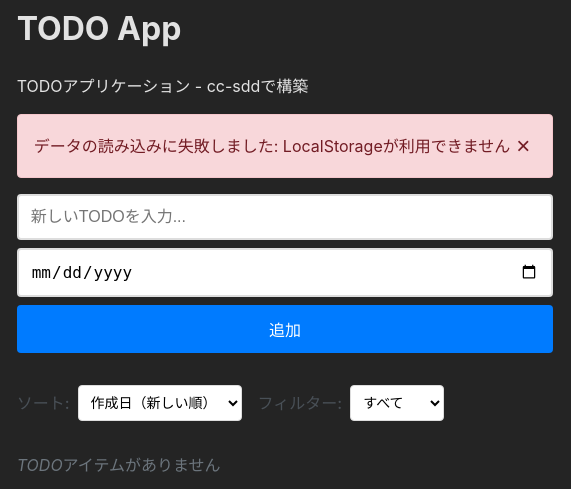
Test case: App - E2E Integration Tests › エラーメッセージを閉じることができる
This screenshot has width=571, height=489.
Type "エラーテスト" into the field with placeholder "新しいTODOを入力...". click: (285, 217)
box: [17,194,553,240]
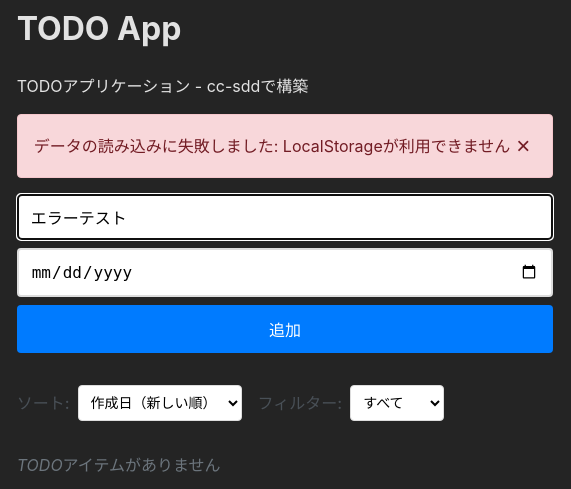
Click the button "追加". click: (285, 329)
box: [17,305,553,353]
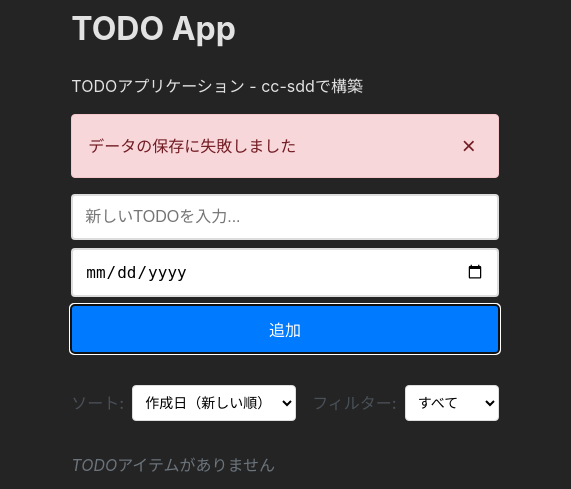
Check: the text "データの保存に失敗しました" is shown, box [88,134,296,158]
Note: 閉じるボタンをクリック
Click the button "×". click: (469, 146)
box: [456,131,482,161]
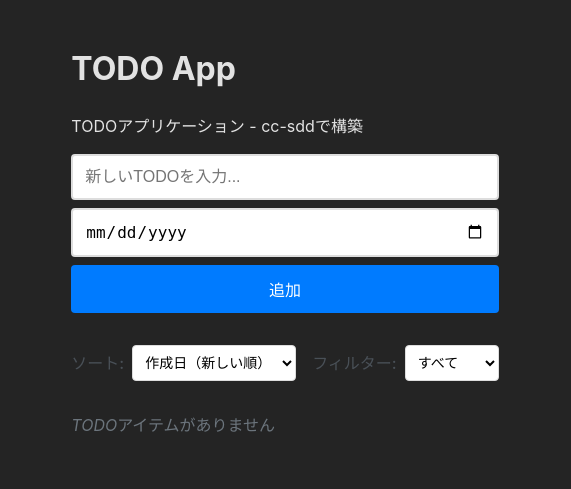
Check: the text "データの保存に失敗しました" is gone
